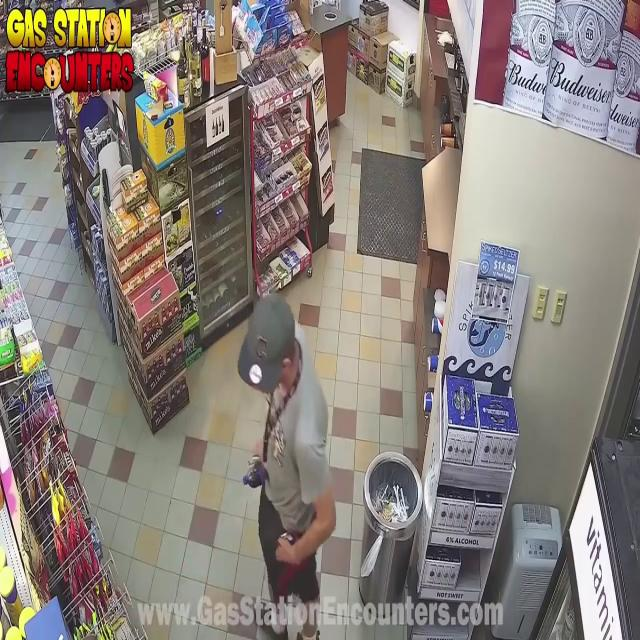Product: (272, 510, 304, 590)
shoplifting: (192, 241, 387, 640)
